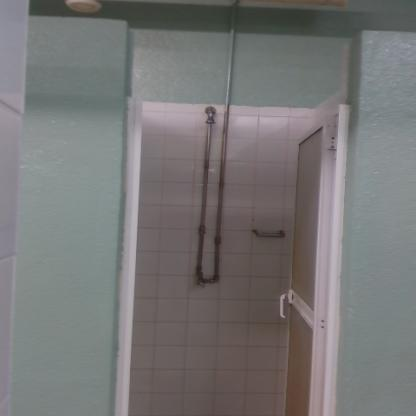closed: (122, 81, 354, 416)
